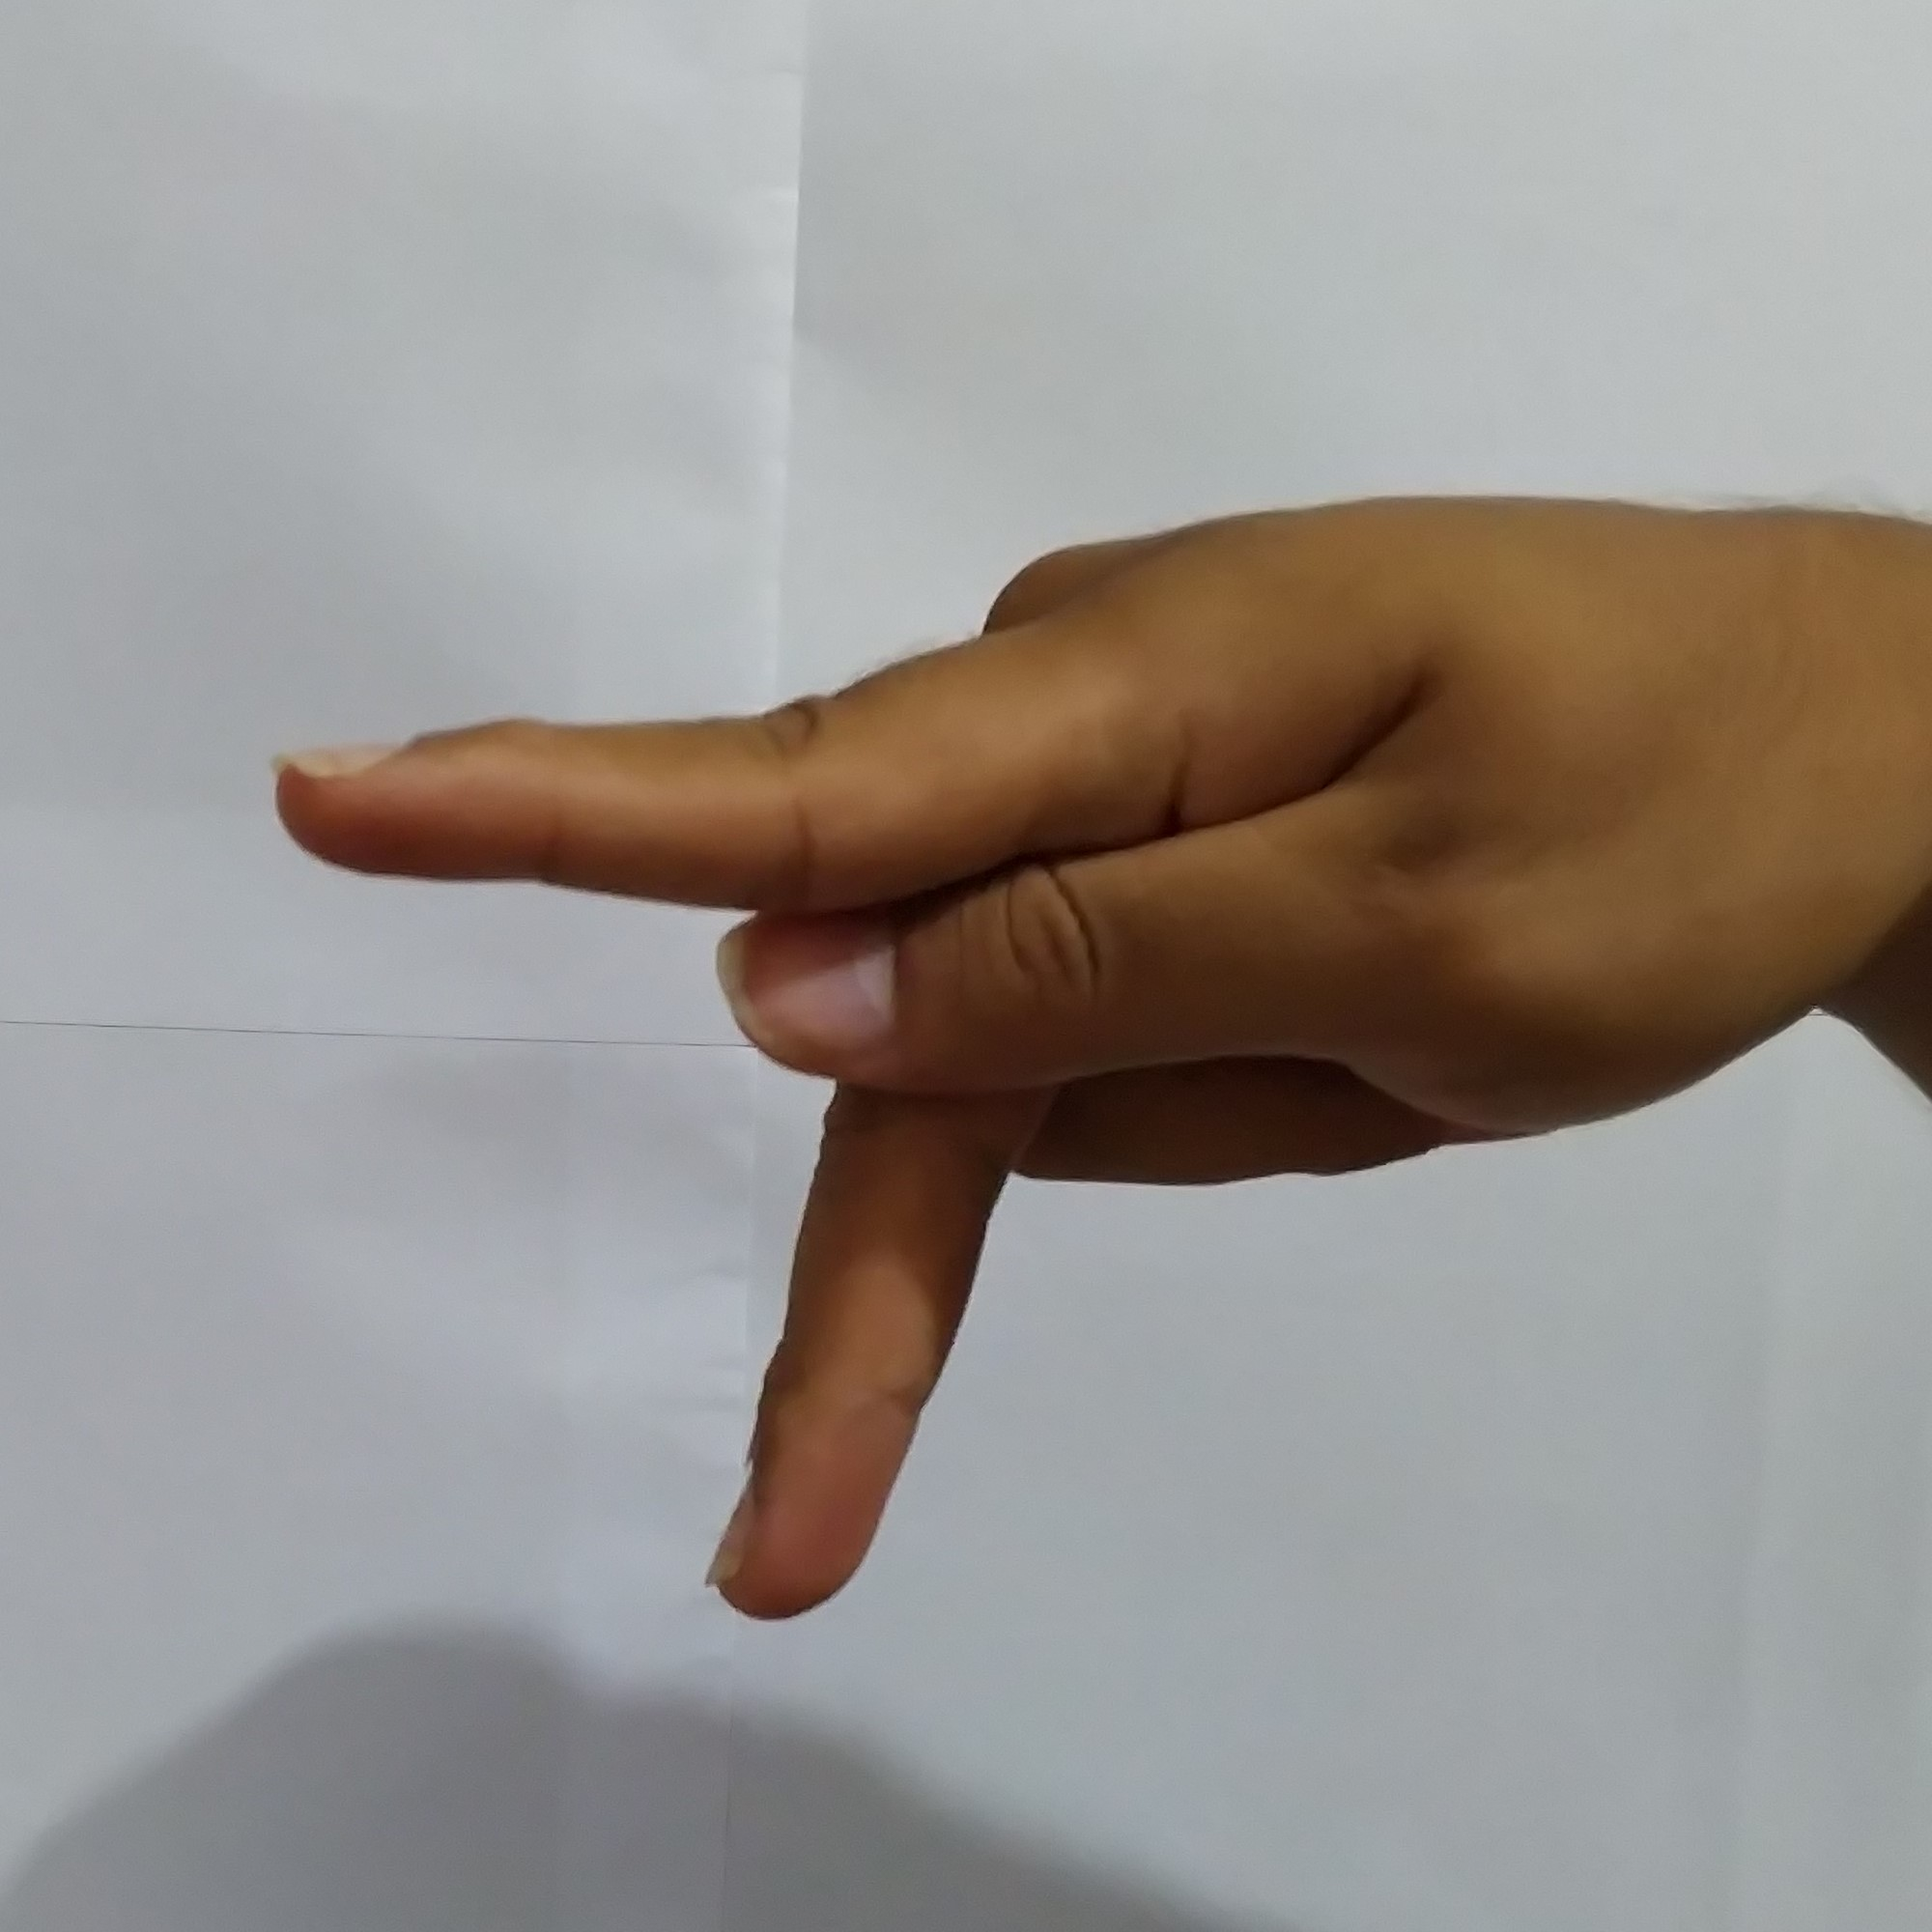P: (241, 464, 1891, 1654)
